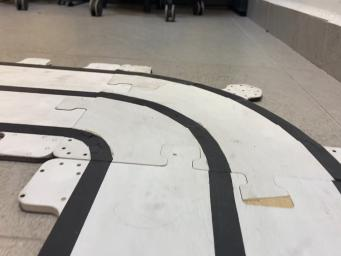street: (0, 60, 341, 256), (0, 60, 341, 256), (0, 60, 341, 256)
